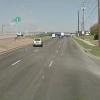Car: (28, 33, 45, 54)
